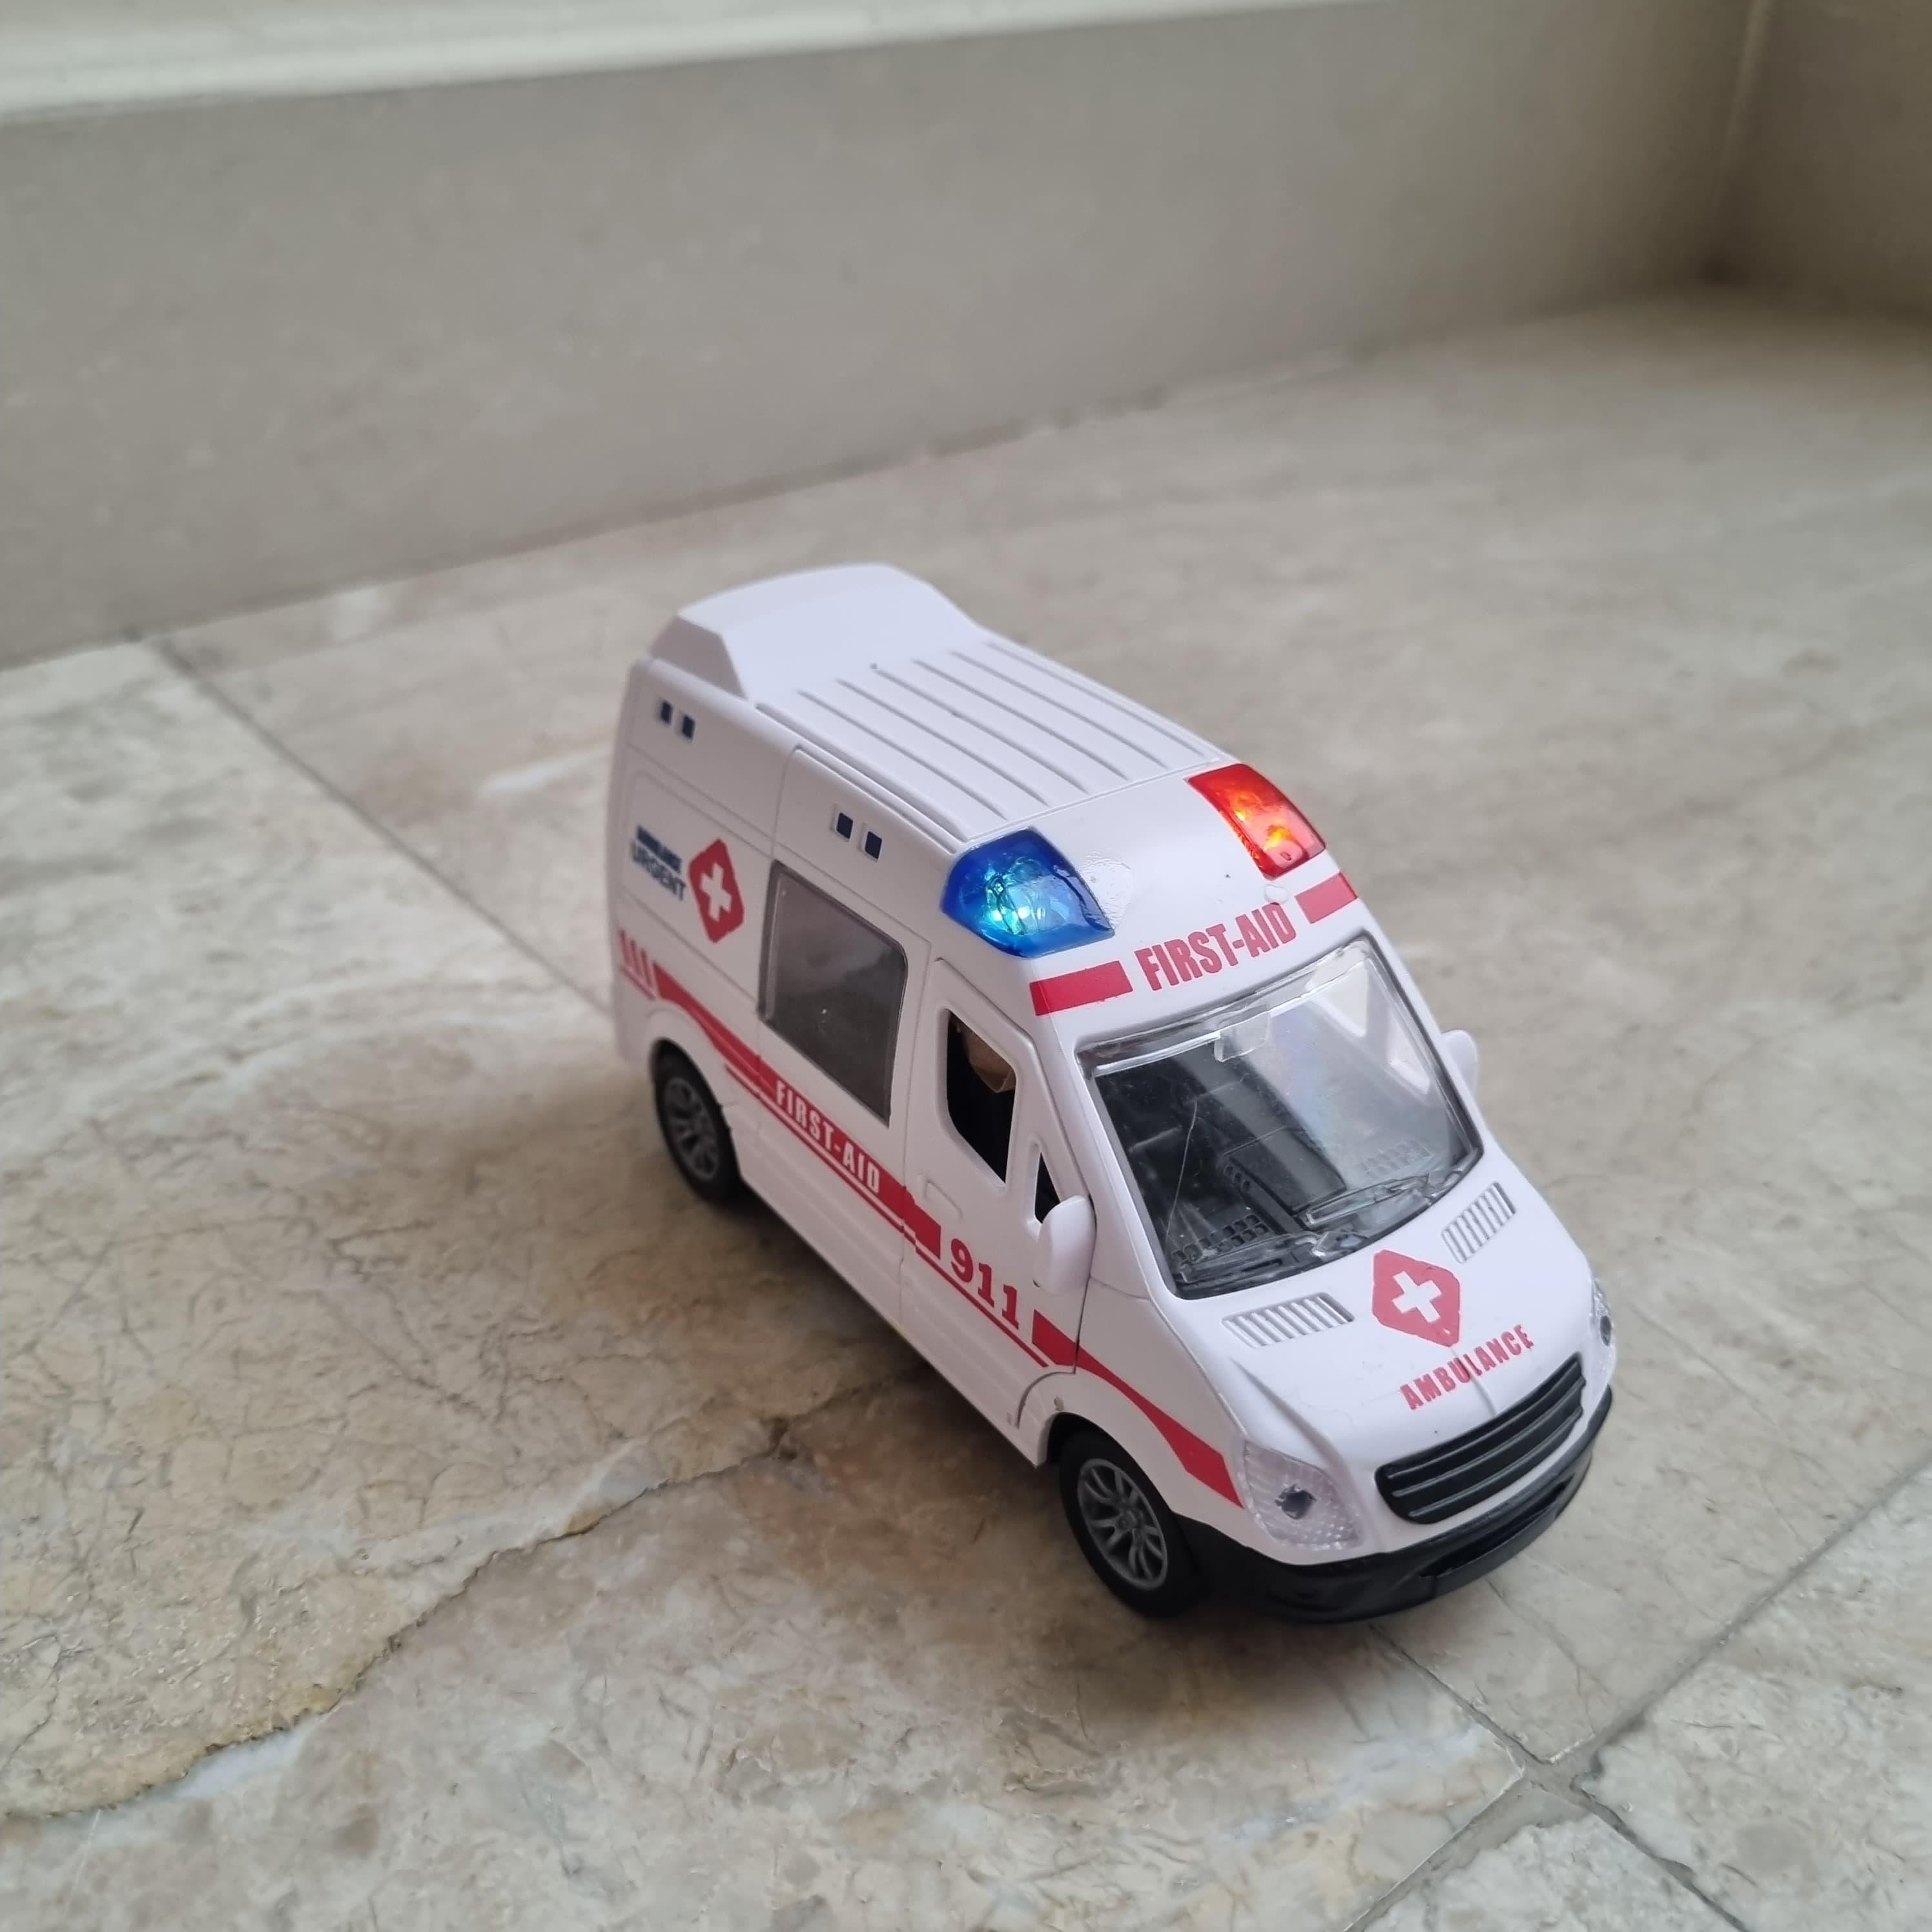ambulance_on: (608, 562, 1621, 1632)
